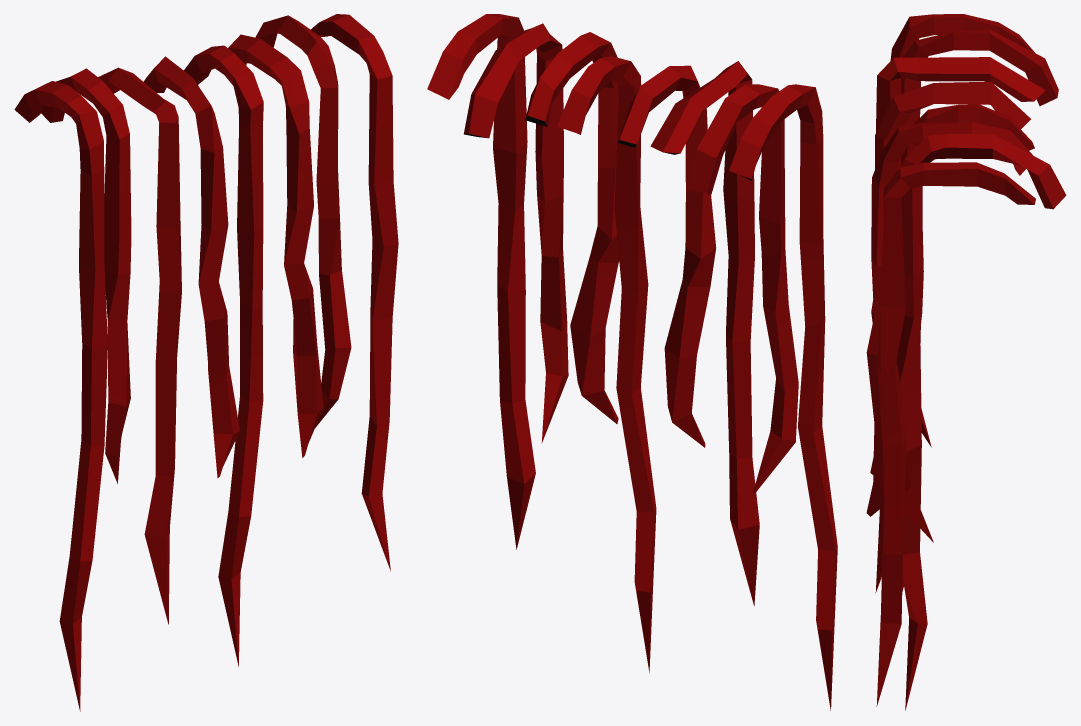
File: SM_Gen_Env_Vines_05.glb
3 renders of one model, left to right at view 1: azimuth 30°, elevation 25°; view 2: azimuth 150°, elevation 25°; view 3: azimuth 270°, elevation 25°, orthographic. The views are drawn at different scales.
Parts seen in each view (by area): view 1: SM_Gen_Env_Vines_052; view 2: SM_Gen_Env_Vines_052; view 3: SM_Gen_Env_Vines_052.
Boxes of the visible parts, bbox=[...] form: SM_Gen_Env_Vines_052: bbox=[14, 14, 398, 711]; SM_Gen_Env_Vines_052: bbox=[427, 14, 837, 710]; SM_Gen_Env_Vines_052: bbox=[866, 14, 1066, 710].
Bounding box in the file's own units: 1.12 × 1.98 × 0.5745.
